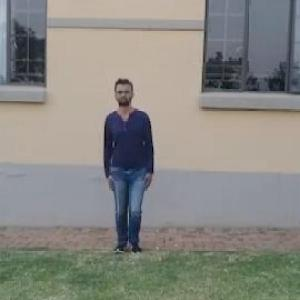follow: (101, 76, 157, 255)
